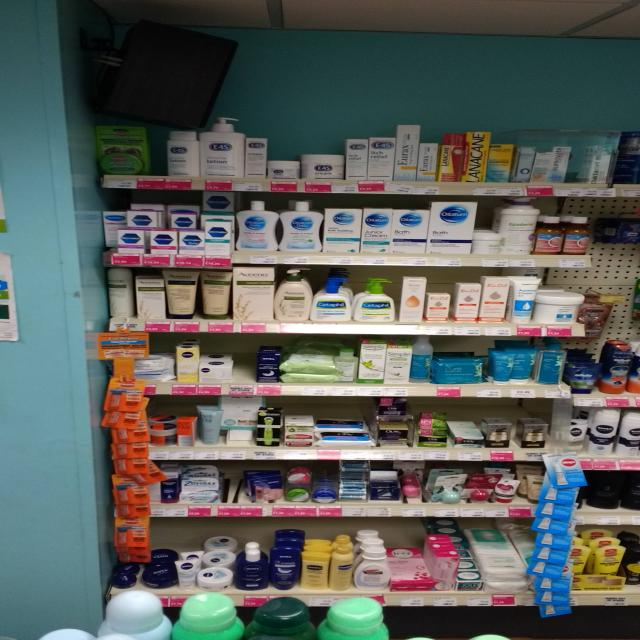empty: (232, 332, 257, 380)
